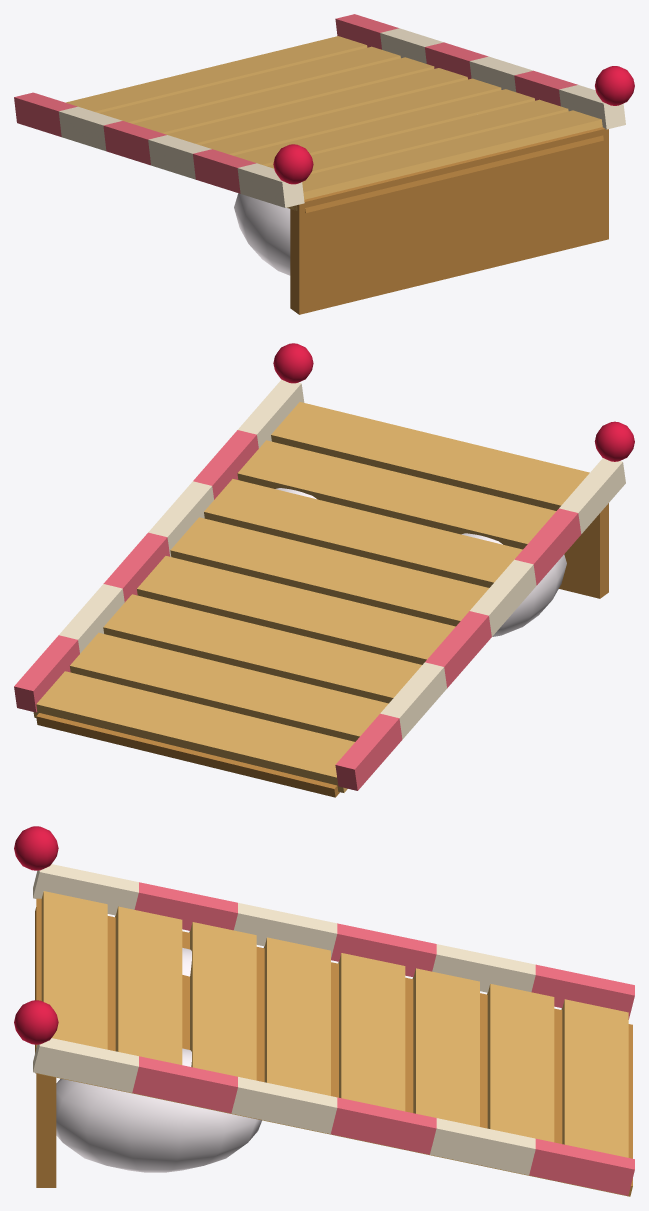
File: ski-ramp.glb
The picture shows the model from 3 angles, top to bottom: view 1: azimuth 30°, elevation 25°; view 2: azimuth 150°, elevation 25°; view 3: azimuth 270°, elevation 25°; orthographic projection. The views are drawn at different scales.
Visible parts, largest first — view 1: ski-ramp; view 2: ski-ramp; view 3: ski-ramp.
Boxes of the visible parts, x1,y1,x2,y2 form: ski-ramp: (14,14,634,314); ski-ramp: (14,343,634,797); ski-ramp: (14,826,634,1196).
Bounding box in the file's own units: 1.84 × 0.8934 × 2.5.
Materials: 1 (1 with a texture image).
